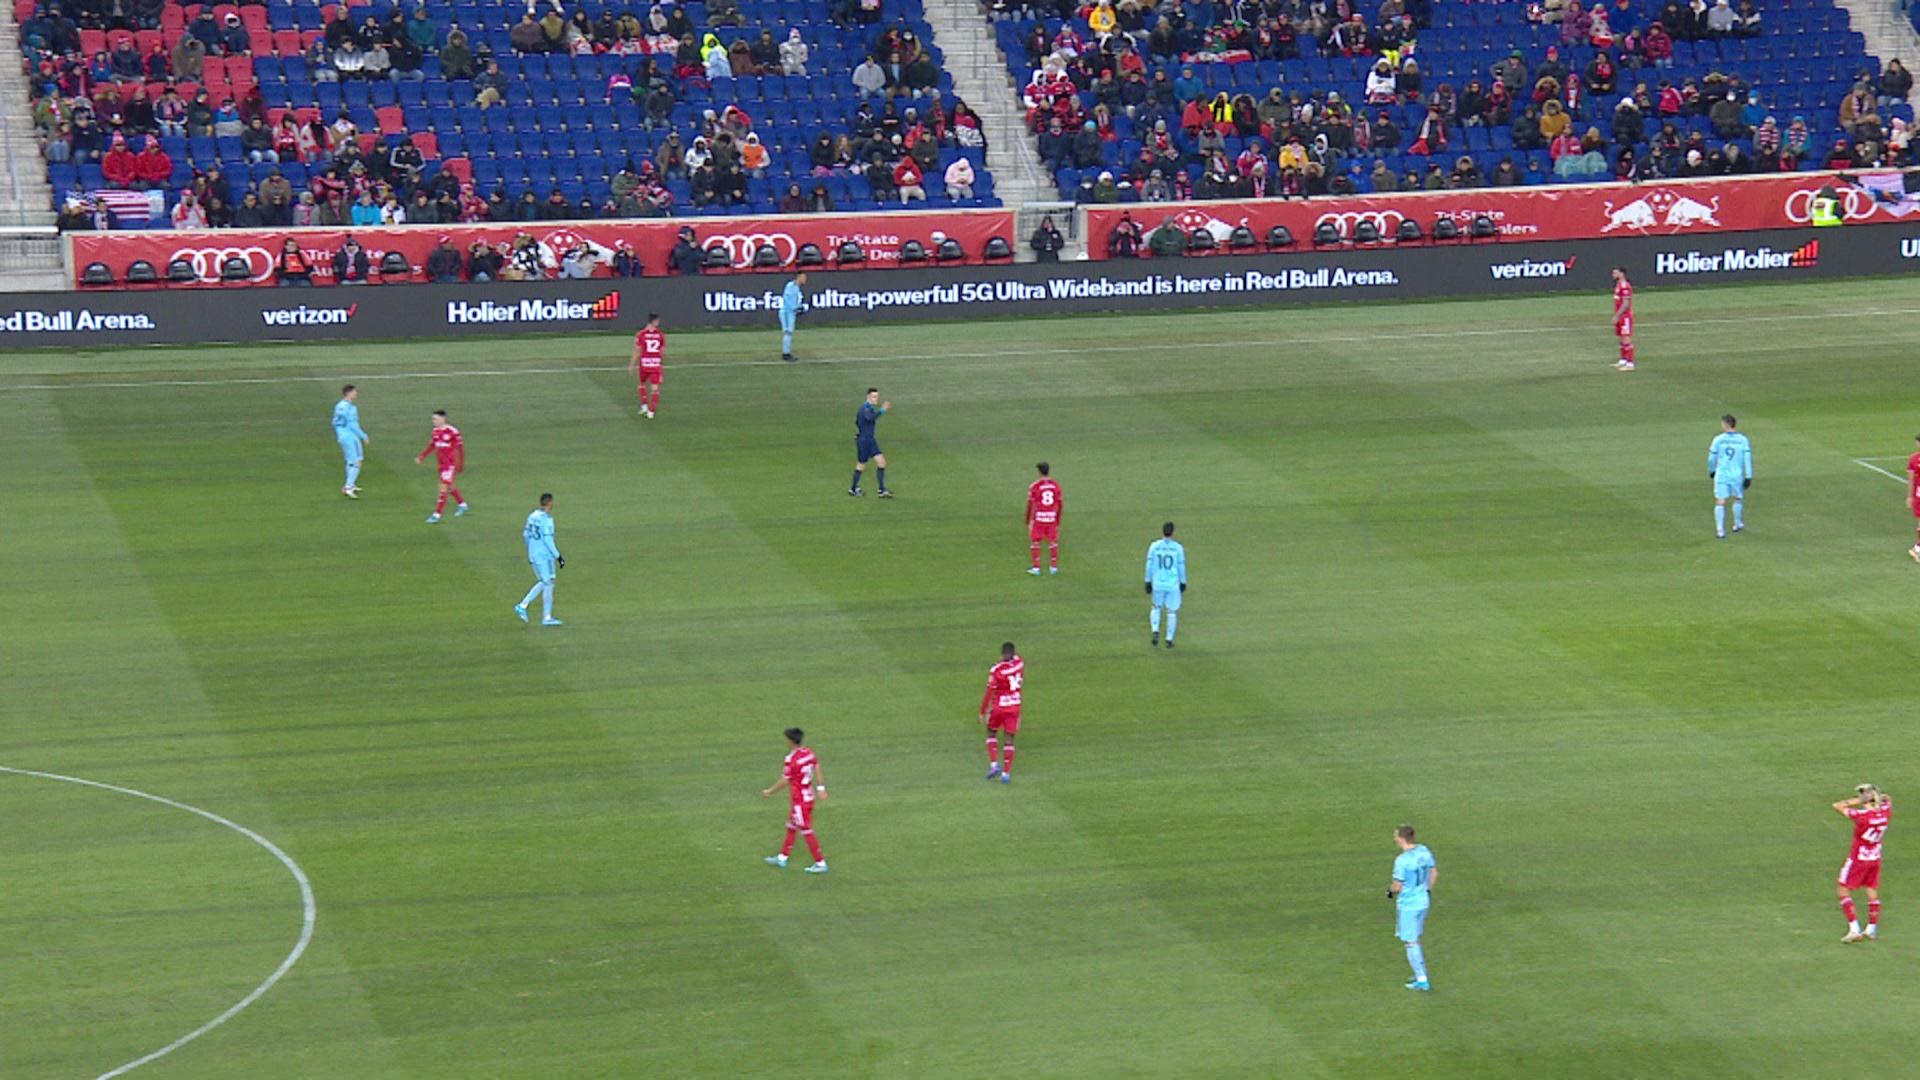football: (804, 305, 808, 310)
